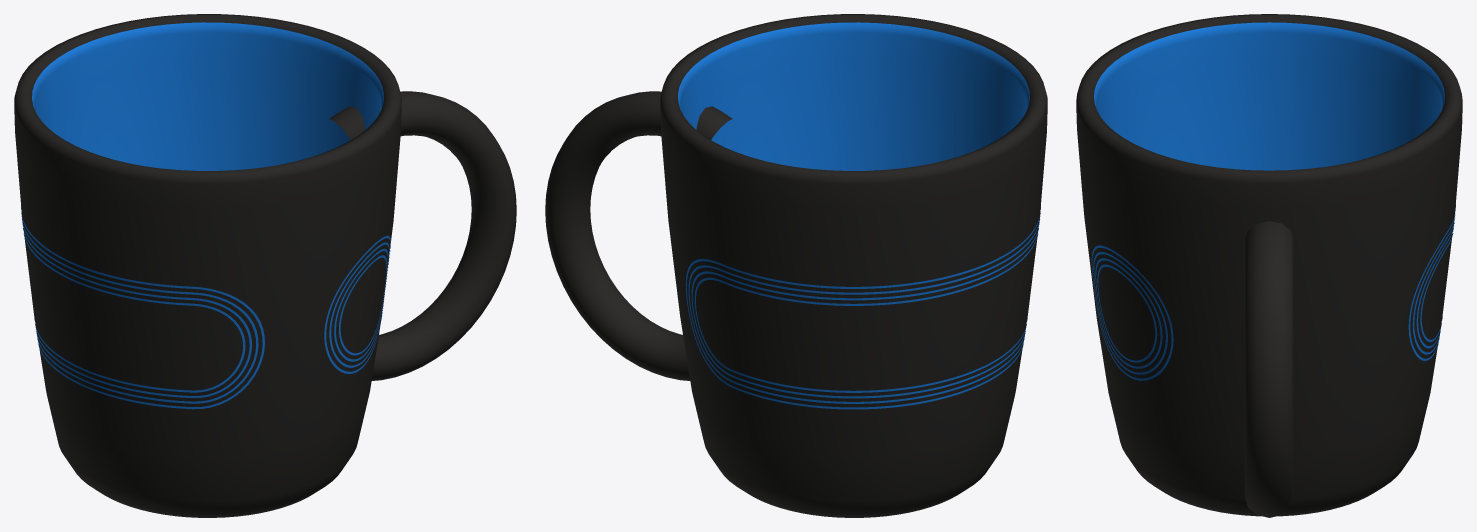
Rendered from guest_mug_blue.glb.
The picture shows the model from 3 angles, left to right: view 1: azimuth 30°, elevation 25°; view 2: azimuth 150°, elevation 25°; view 3: azimuth 270°, elevation 25°; orthographic projection.
Visible parts, largest first — view 1: GUEST_MUG_BLUE; view 2: GUEST_MUG_BLUE; view 3: GUEST_MUG_BLUE.
Boxes of the visible parts, x1,y1,x2,y2 form: GUEST_MUG_BLUE: [14, 14, 516, 517]; GUEST_MUG_BLUE: [545, 14, 1047, 517]; GUEST_MUG_BLUE: [1076, 14, 1462, 517].
Size of the model in its own units: 0.138 by 0.105 by 0.098.
